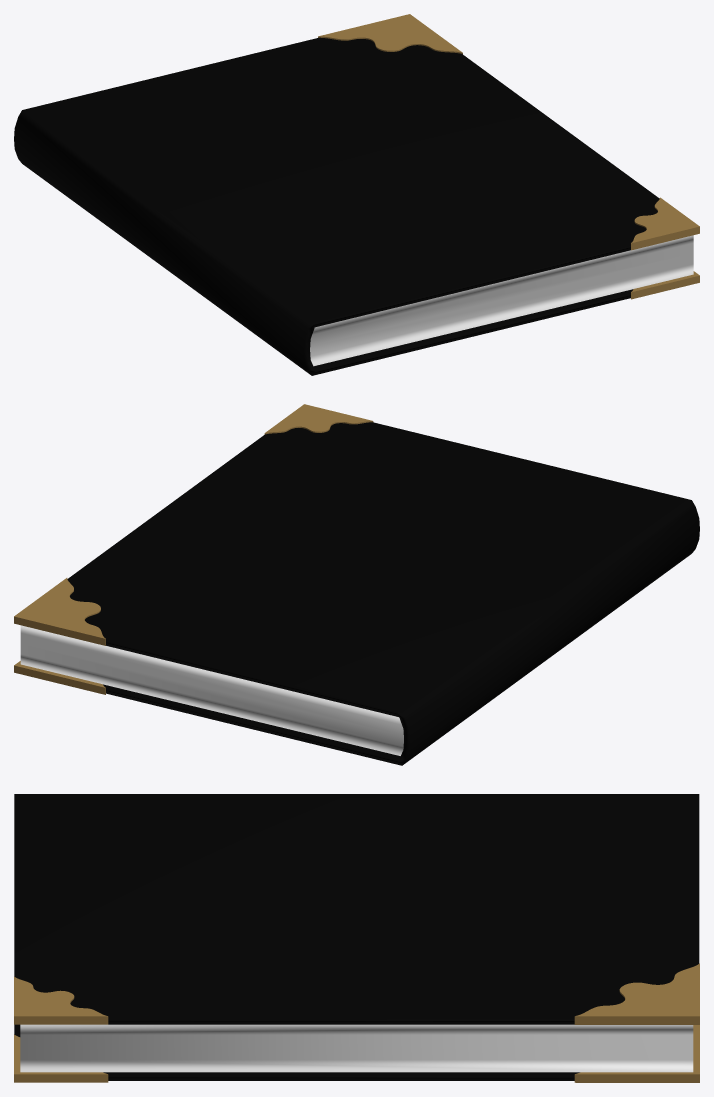
The model's file is diary.glb.
3 views of the same model, one above another, from view 1: azimuth 30°, elevation 25°; view 2: azimuth 150°, elevation 25°; view 3: azimuth 270°, elevation 25° (orthographic). The views are drawn at different scales.
Visible parts, largest first — view 1: Cube; view 2: Cube; view 3: Cube.
Part boxes in pixels (left/top/right/bottom): Cube: left=14, top=14, right=699, bottom=375; Cube: left=14, top=404, right=699, bottom=765; Cube: left=14, top=794, right=699, bottom=1082.
Bounding box in the file's own units: 1.8 × 0.247 × 2.28.
